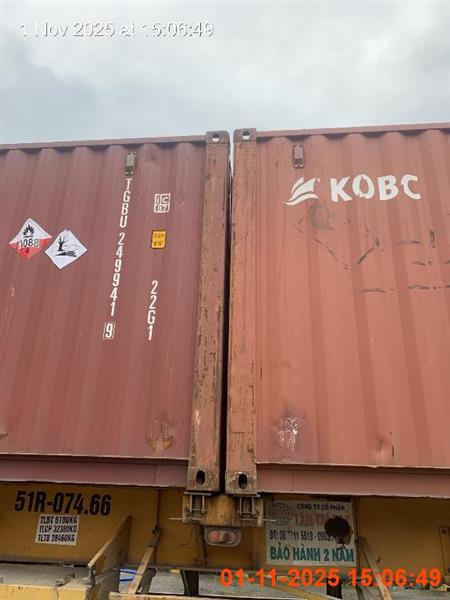crack: (0, 124, 448, 598), (1, 124, 447, 596)
